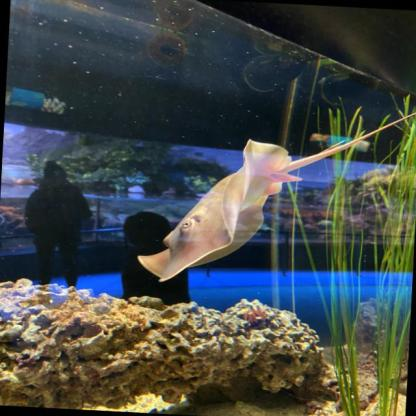stingray: (136, 127, 304, 290)
